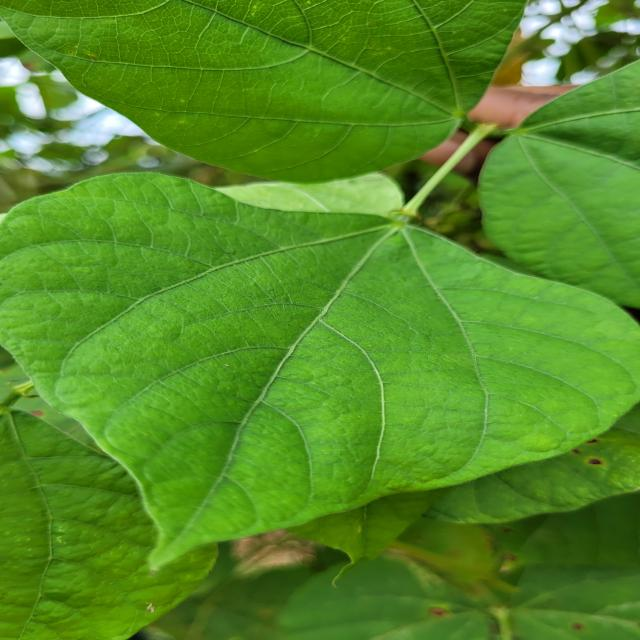Dolicos bean_healthy: (0, 172, 640, 571), (0, 0, 528, 179), (463, 66, 640, 304)
